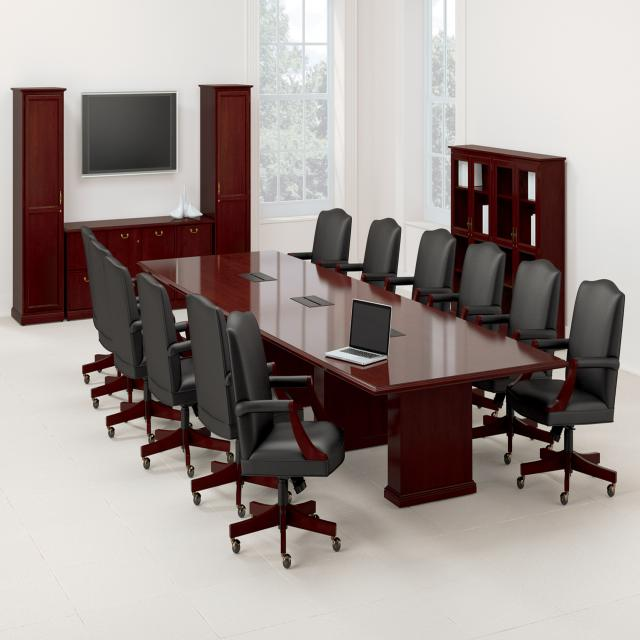chair: (226, 310, 346, 568), (505, 278, 625, 504), (186, 293, 306, 519), (136, 272, 233, 478), (102, 255, 191, 440), (384, 228, 457, 310), (335, 217, 401, 290), (287, 207, 352, 271)
